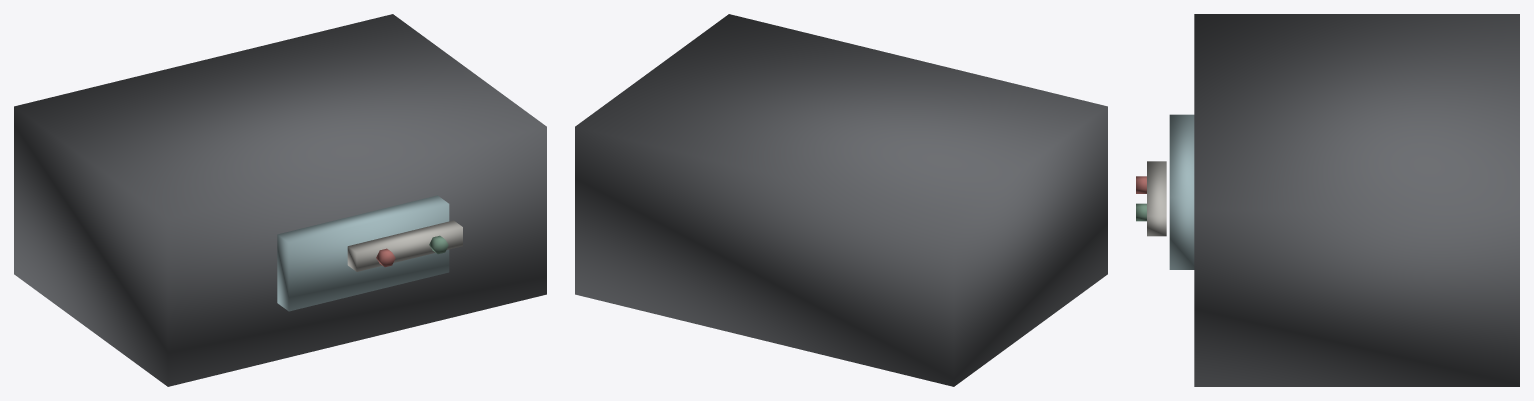
File: cassette_deck__deep.glb
3 views of the same model, side by side, from view 1: azimuth 30°, elevation 25°; view 2: azimuth 150°, elevation 25°; view 3: azimuth 270°, elevation 25° (orthographic). The views are drawn at different scales.
Parts seen in each view (by area): view 1: world; view 2: world; view 3: world.
Boxes of the visible parts, box(x1,y1,x2,y2) form: world: box(14, 14, 546, 386); world: box(575, 14, 1107, 386); world: box(1136, 14, 1519, 386).
Bounding box in the file's own units: 0.52 × 0.22 × 0.4313.
